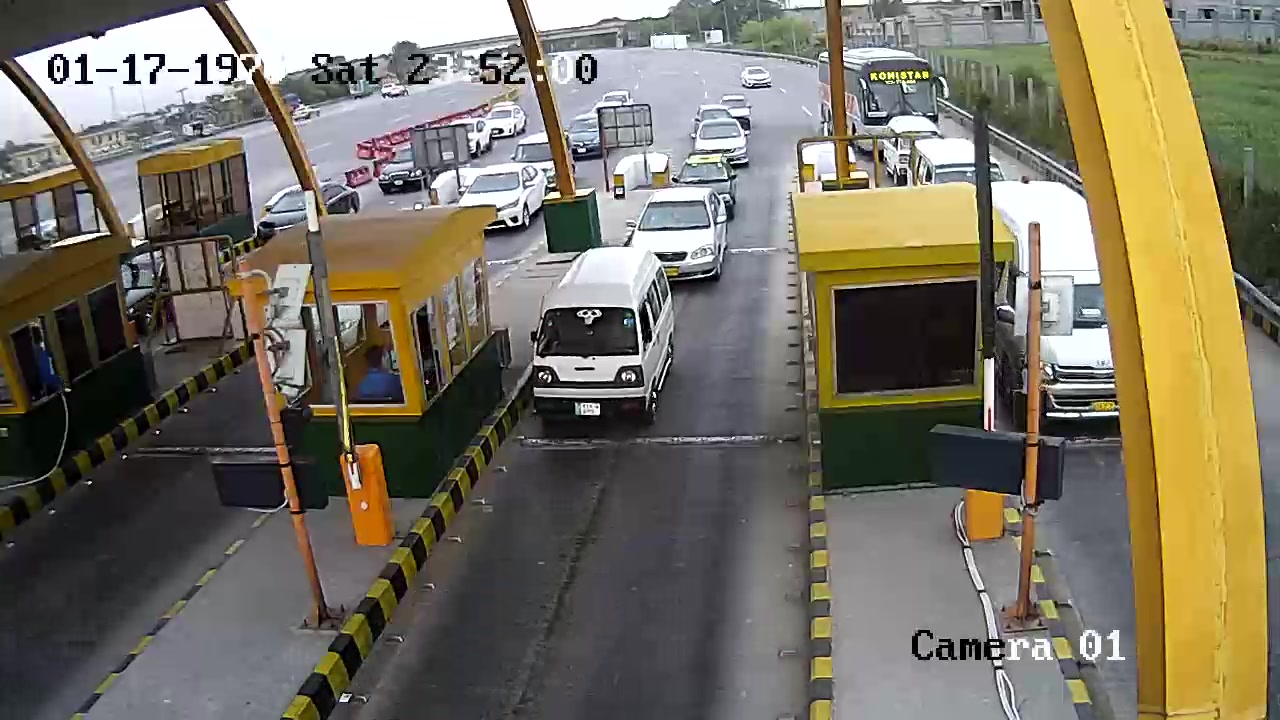F1: (529, 241, 681, 449)
